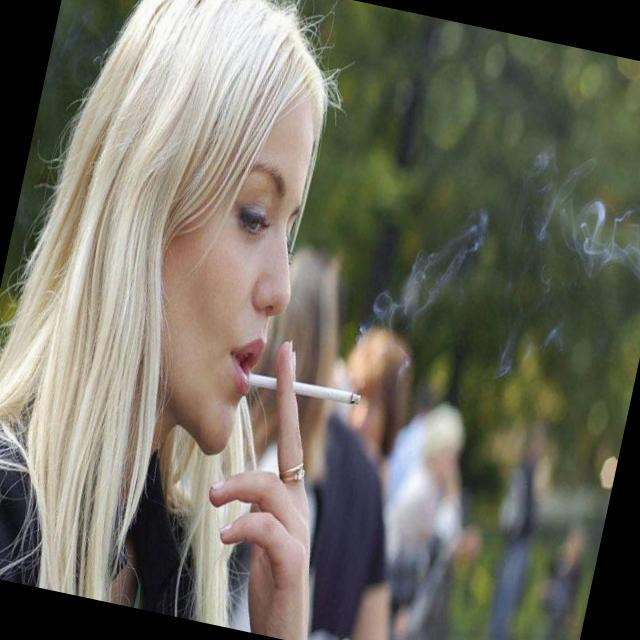cigarette: (230, 357, 367, 430)
